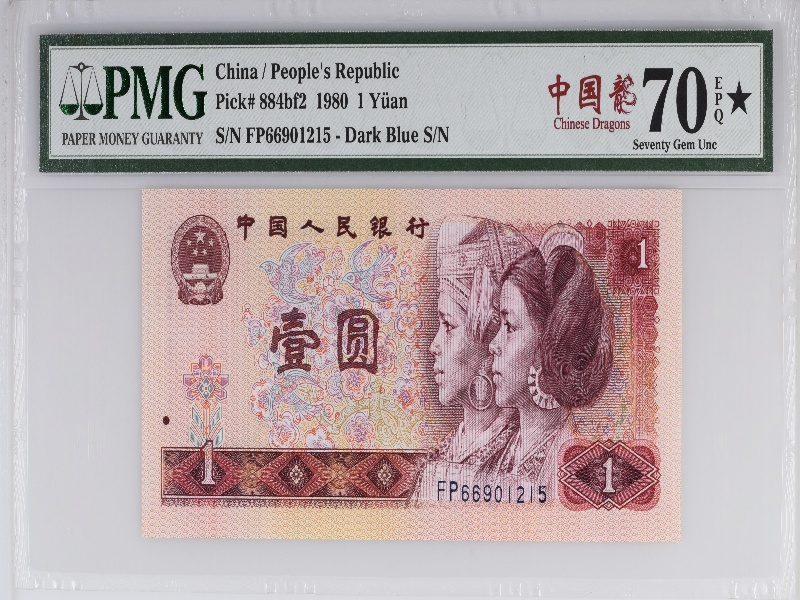papernote: (137, 185, 684, 546)
